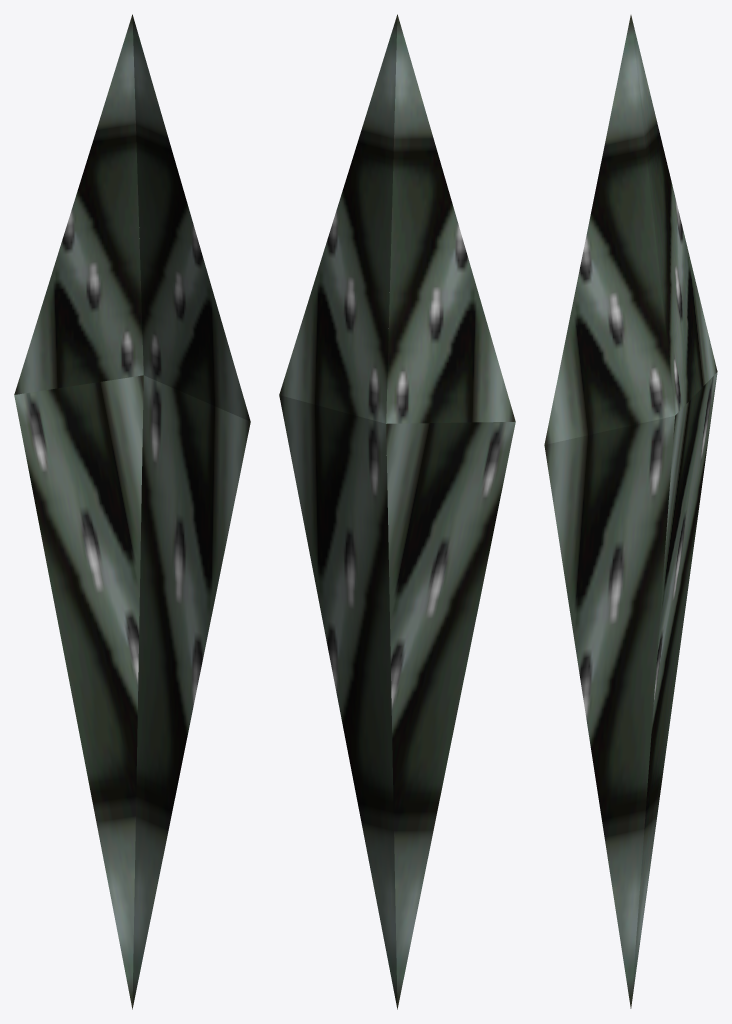
The model's file is Eckverschluß [Metallstreben]_748.glb.
3 renders of one model, left to right at view 1: azimuth 30°, elevation 25°; view 2: azimuth 210°, elevation 25°; view 3: azimuth 270°, elevation 25°, orthographic.
Parts seen in each view (by area): view 1: pPlaneShape11, pPlaneShape10, pPlaneShape8, pPlaneShape9; view 2: pPlaneShape11, pPlaneShape10, pPlaneShape8, pPlaneShape9; view 3: pPlaneShape10, pPlaneShape9, pPlaneShape11, pPlaneShape8.
Part boxes in pixels (x1=…): pPlaneShape11: x1=14, y1=375, x2=143, y2=1009; pPlaneShape10: x1=132, y1=375, x2=250, y2=1007; pPlaneShape8: x1=14, y1=14, x2=143, y2=394; pPlaneShape9: x1=132, y1=15, x2=250, y2=421; pPlaneShape11: x1=386, y1=421, x2=515, y2=1009; pPlaneShape10: x1=279, y1=395, x2=397, y2=1007; pPlaneShape8: x1=386, y1=14, x2=515, y2=423; pPlaneShape9: x1=279, y1=15, x2=397, y2=423; pPlaneShape10: x1=544, y1=416, x2=674, y2=1008; pPlaneShape9: x1=544, y1=15, x2=674, y2=444; pPlaneShape11: x1=631, y1=372, x2=717, y2=1008; pPlaneShape8: x1=631, y1=15, x2=717, y2=415.
Size of the model in its own units: 0.0549 by 0.3486 by 0.0549.
4 materials, 4 textured.
